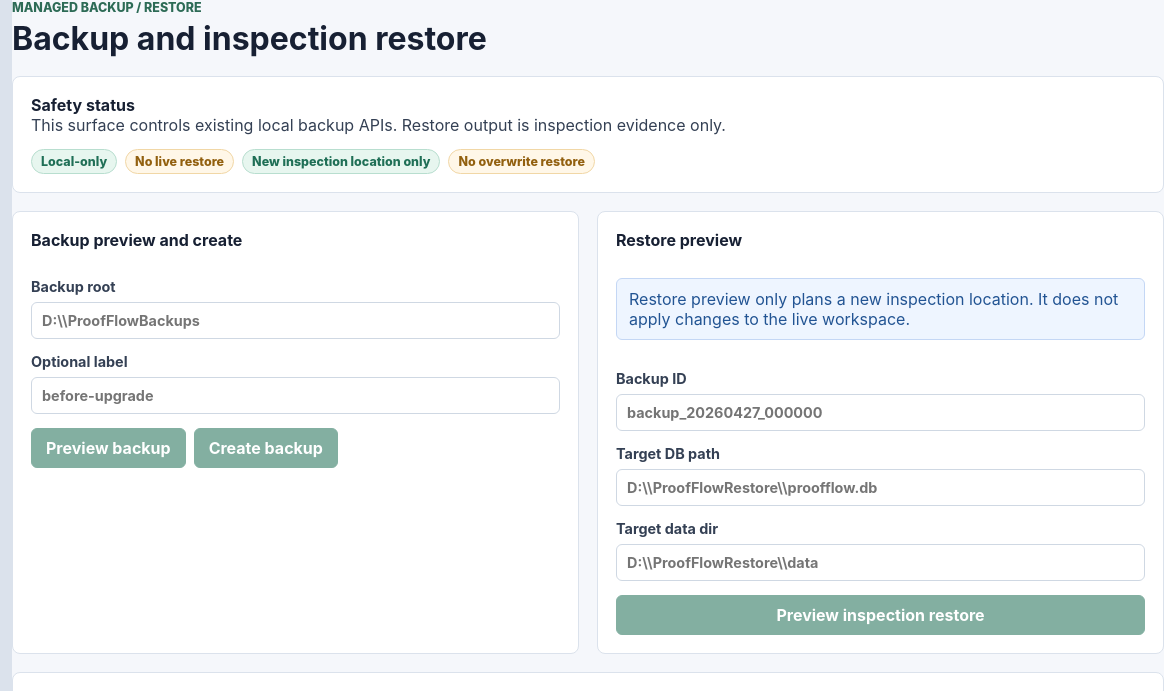
Test: ManagedBackupRestore › previews a backup and displays planned files and warnings
The width and height of the screenshot is (1164, 691).
Step 1. Type "D:/backups" into the field labelled "Backup root" → point(296, 320), box [31,302,560,339]
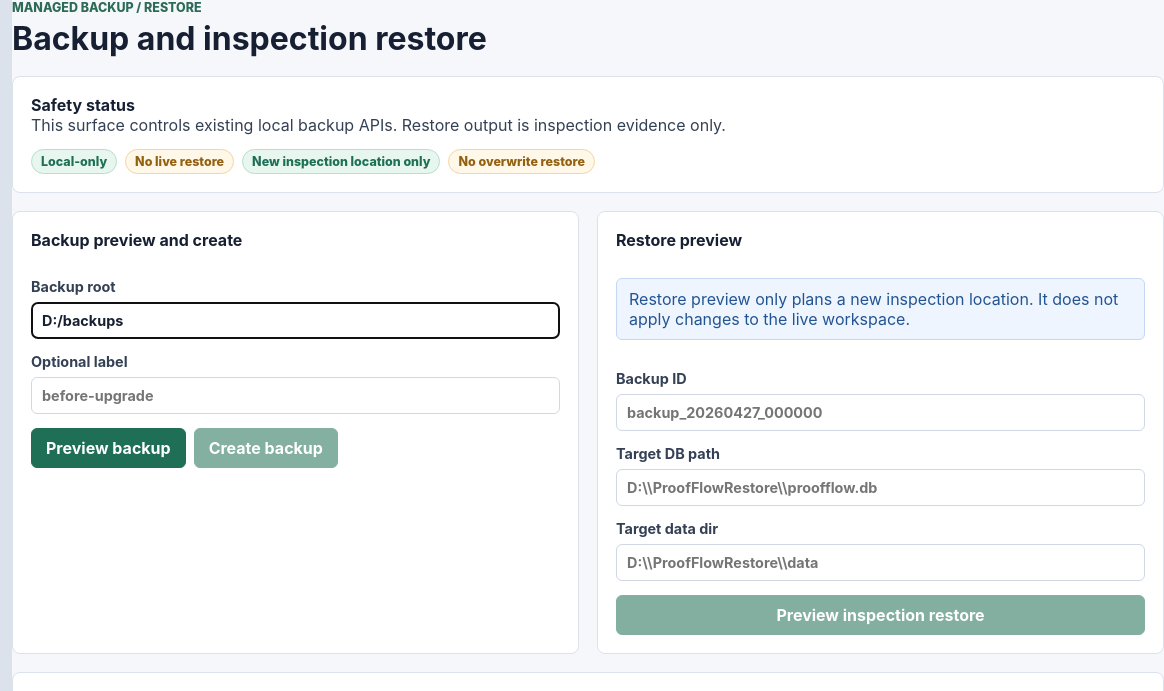
Step 2. Click the button "Preview backup" → point(108, 448), box [31,428,186,468]
(page scrolled)
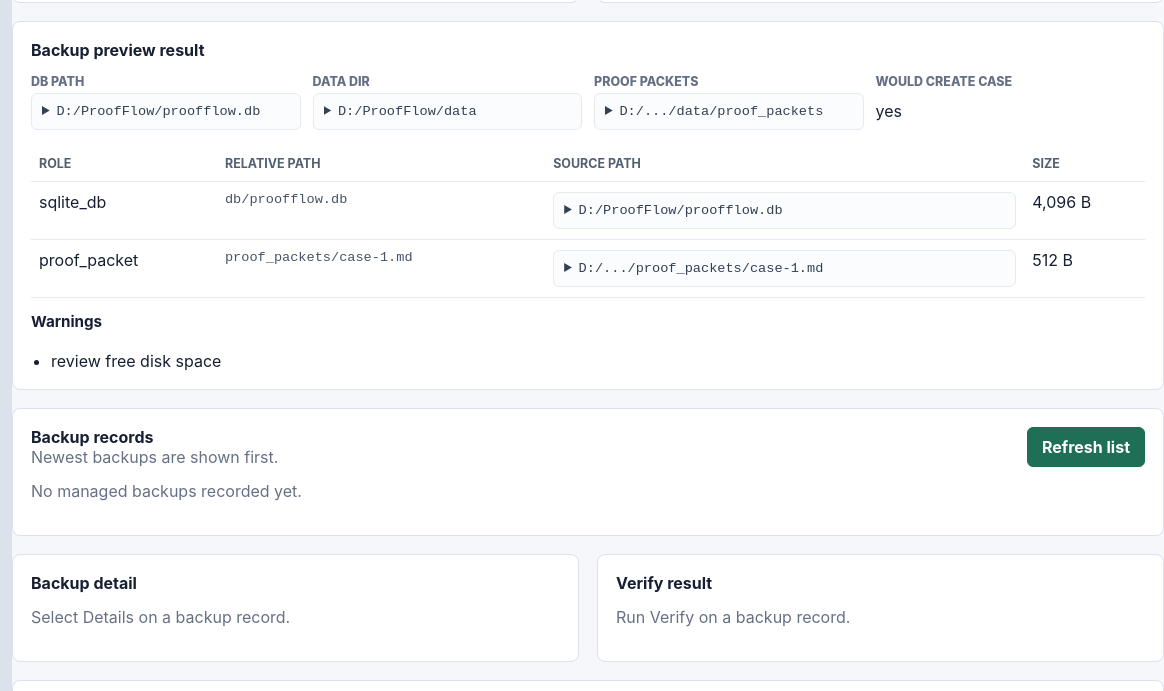
Check: the text "db/proofflow.db" is shown, box [217,181,545,239]
Check: the text "proof_packets/case-1.md" is shown, box [217,239,545,297]
Check: the list item "review free disk space" is shown, box [51,351,221,371]
